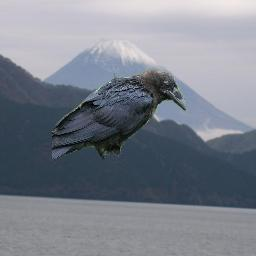Crow: (52, 68, 188, 162)
